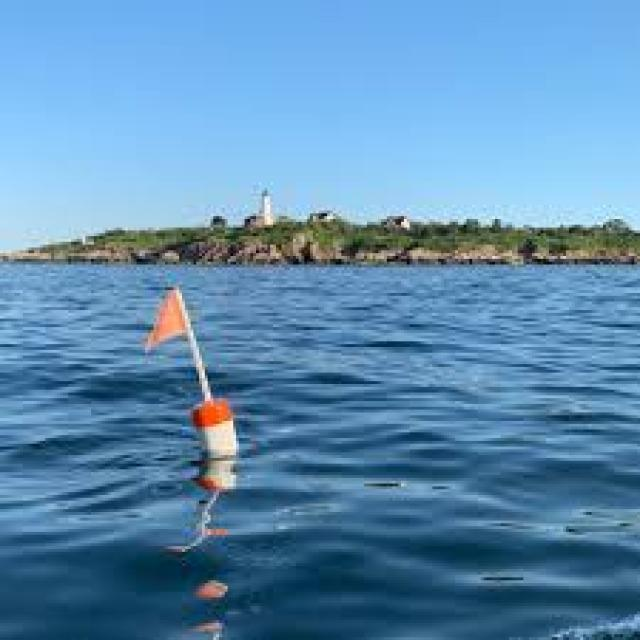Buoy: (145, 277, 260, 466)
